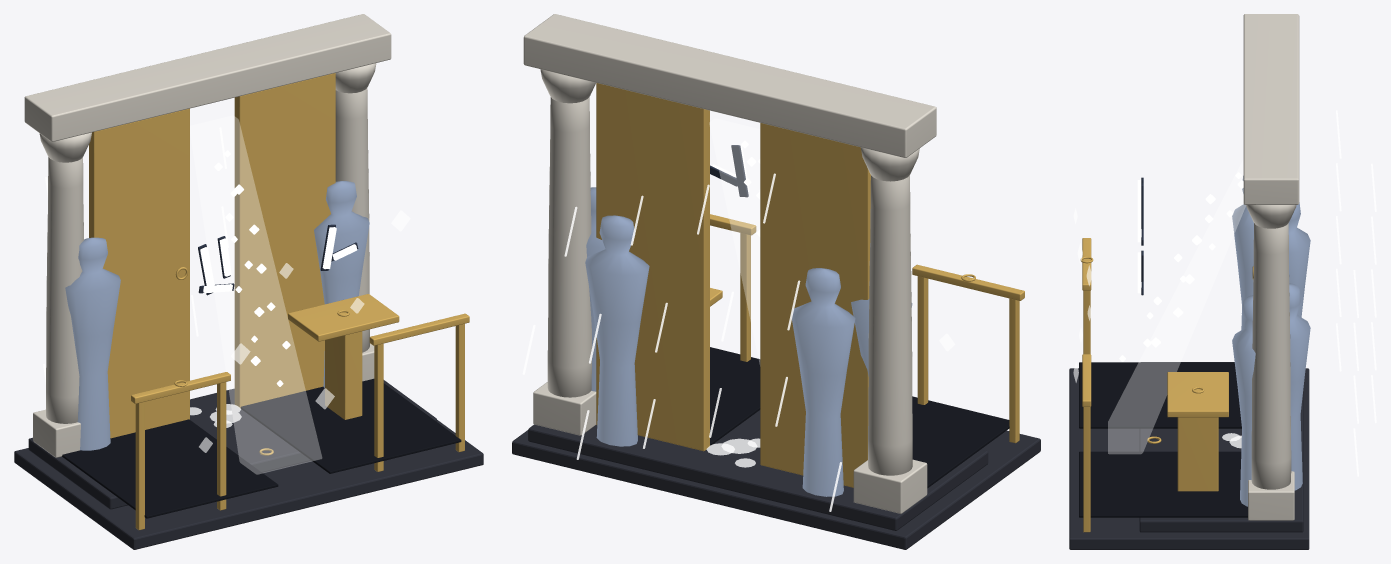
Rendered from webtoon-weather-eaves-rain-ripples-15pct-v24.glb.
3 views of the same model, side by side, from view 1: azimuth 30°, elevation 25°; view 2: azimuth 150°, elevation 25°; view 3: azimuth 270°, elevation 25° (orthographic). The views are drawn at different scales.
Visible parts, largest first — view 1: Articulated_V24Beat1_Rain_DoorsAndIkRig, V24Beat1_Rain_PortalColonnade, Volumetric_V24Beat1_Rain_GodRaySlit, ShadowDrift_V24Beat1_Rain_UmbraMask, V24Beat1_Rain_DatumDeck, DatumCrowd_V24Beat1_Rain_Silhouettes, ZDepthSFX_V24Beat1_Rain_GlyphCore, Atmospheric_V24Beat1_Rain_FgBokehLayer, Atmospheric_V24Beat1_Rain_MidMotes, ZDepthSFX_V24Beat1_Rain_ShadowPlate; view 2: Articulated_V24Beat1_Rain_DoorsAndIkRig, V24Beat1_Rain_PortalColonnade, V24Beat1_Rain_DatumDeck, DatumCrowd_V24Beat1_Rain_Silhouettes, ShadowDrift_V24Beat1_Rain_UmbraMask, Volumetric_V24Beat1_Rain_GodRaySlit, Weather_V24Beat1_Rain_ExteriorOccluded, Weather_V24Beat1_Rain_IndoorWetRipples, ZDepthSFX_V24Beat1_Rain_ShadowPlate; view 3: V24Beat1_Rain_PortalColonnade, ShadowDrift_V24Beat1_Rain_UmbraMask, V24Beat1_Rain_DatumDeck, Volumetric_V24Beat1_Rain_GodRaySlit, Articulated_V24Beat1_Rain_DoorsAndIkRig, DatumCrowd_V24Beat1_Rain_Silhouettes, Weather_V24Beat1_Rain_ExteriorOccluded, Atmospheric_V24Beat1_Rain_MidMotes, ZDepthSFX_V24Beat1_Rain_GlyphCore.
Part boxes in pixels (x1,y1,x2,y2): Articulated_V24Beat1_Rain_DoorsAndIkRig: (89, 73, 469, 530); V24Beat1_Rain_PortalColonnade: (24, 14, 391, 457); Volumetric_V24Beat1_Rain_GodRaySlit: (190, 115, 321, 474); ShadowDrift_V24Beat1_Rain_UmbraMask: (62, 378, 461, 518); V24Beat1_Rain_DatumDeck: (14, 380, 483, 549); DatumCrowd_V24Beat1_Rain_Silhouettes: (65, 181, 369, 450); ZDepthSFX_V24Beat1_Rain_GlyphCore: (200, 227, 357, 293); Atmospheric_V24Beat1_Rain_FgBokehLayer: (199, 210, 410, 452); Atmospheric_V24Beat1_Rain_MidMotes: (214, 150, 290, 386); ZDepthSFX_V24Beat1_Rain_ShadowPlate: (198, 224, 358, 295); Articulated_V24Beat1_Rain_DoorsAndIkRig: (596, 83, 1024, 487); V24Beat1_Rain_PortalColonnade: (523, 14, 936, 513); V24Beat1_Rain_DatumDeck: (512, 410, 1040, 549); DatumCrowd_V24Beat1_Rain_Silhouettes: (585, 187, 912, 496); ShadowDrift_V24Beat1_Rain_UmbraMask: (710, 347, 1009, 488); Volumetric_V24Beat1_Rain_GodRaySlit: (709, 119, 759, 363); Weather_V24Beat1_Rain_ExteriorOccluded: (522, 173, 841, 511); Weather_V24Beat1_Rain_IndoorWetRipples: (706, 438, 760, 467); ZDepthSFX_V24Beat1_Rain_ShadowPlate: (710, 145, 748, 197); V24Beat1_Rain_PortalColonnade: (1243, 14, 1299, 520); ShadowDrift_V24Beat1_Rain_UmbraMask: (1079, 362, 1247, 517); V24Beat1_Rain_DatumDeck: (1069, 362, 1309, 549); Volumetric_V24Beat1_Rain_GodRaySlit: (1108, 160, 1245, 453); Articulated_V24Beat1_Rain_DoorsAndIkRig: (1080, 238, 1253, 532); DatumCrowd_V24Beat1_Rain_Silhouettes: (1232, 175, 1310, 506); Weather_V24Beat1_Rain_ExteriorOccluded: (1336, 110, 1376, 476); Atmospheric_V24Beat1_Rain_MidMotes: (1119, 172, 1243, 361); ZDepthSFX_V24Beat1_Rain_GlyphCore: (1137, 180, 1141, 293).
Bounding box in the file's own units: 2.76 × 2.78 × 2.1.
